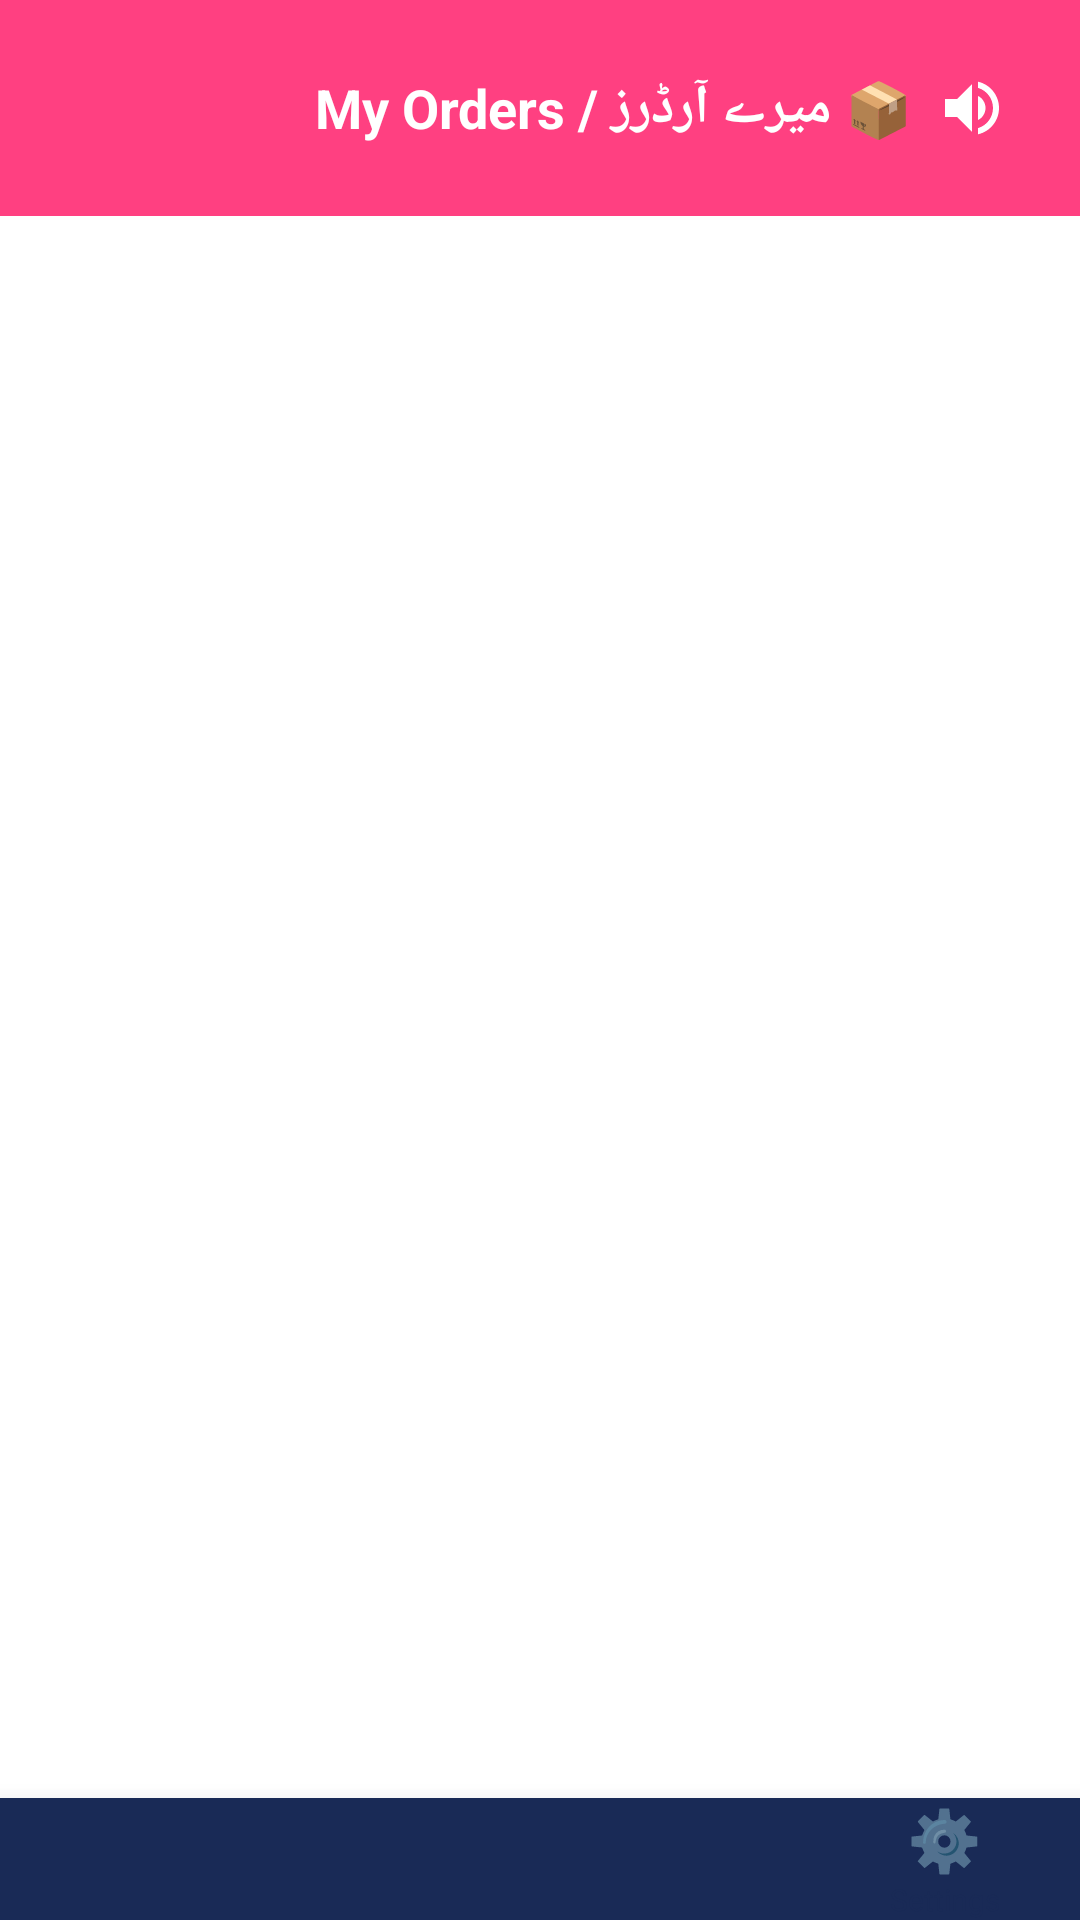

Icons on this 1080*1920 Android screen, each with the point to tap as point (x, y):
speaker: point (972, 108)
